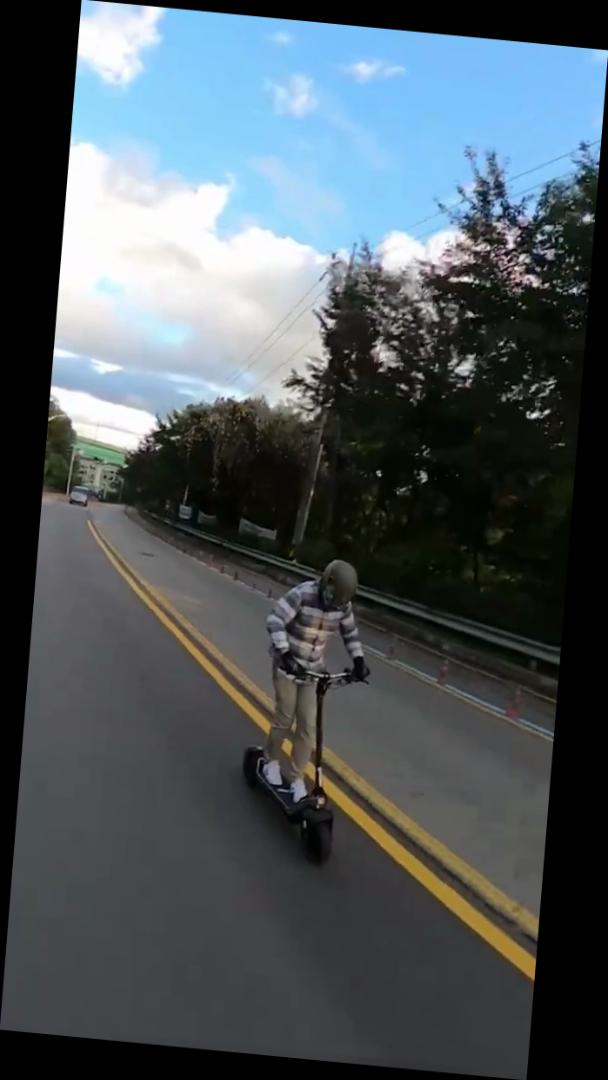helmet: (232, 546, 382, 874)
